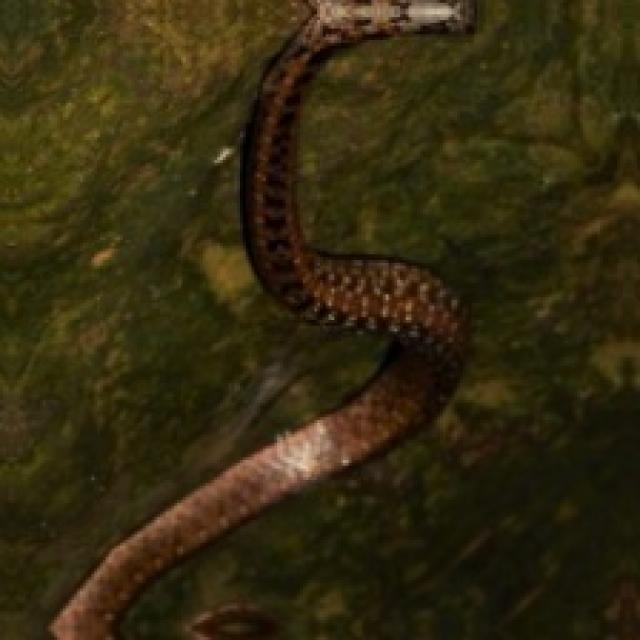boies keelback: (51, 0, 471, 637)
